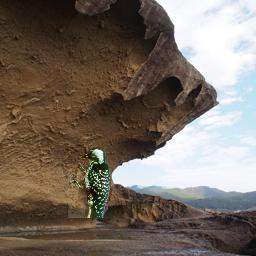Woodpecker: (68, 147, 110, 218)
